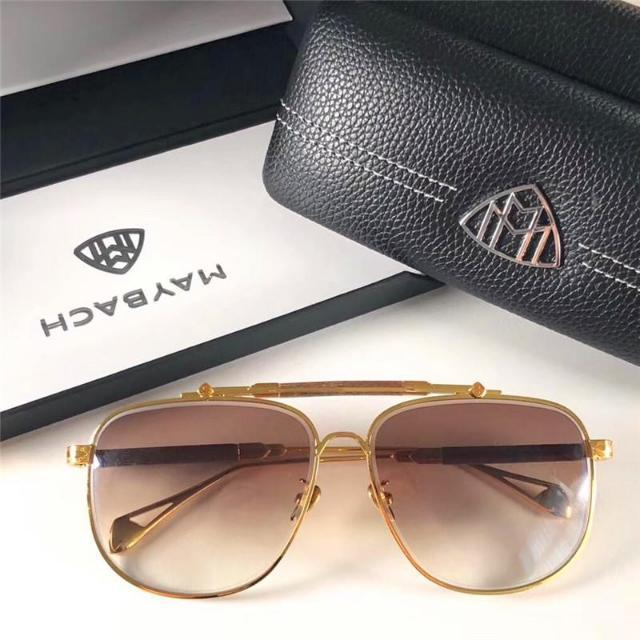glasses: (50, 334, 640, 622)
